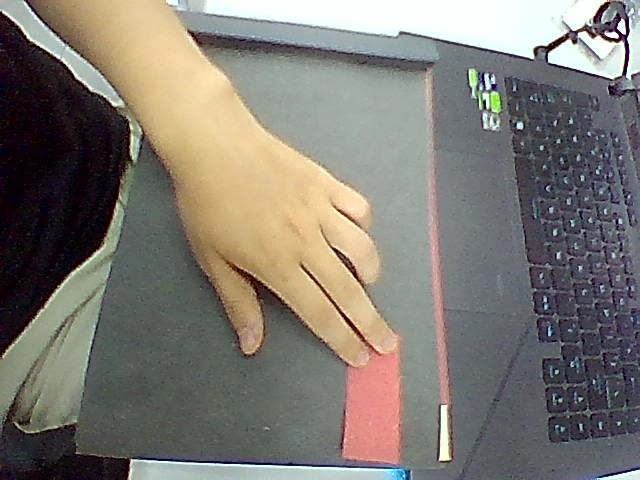card: (343, 349, 401, 462)
